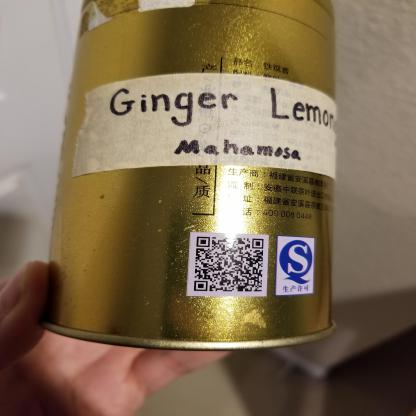qr: (191, 234, 266, 295)
